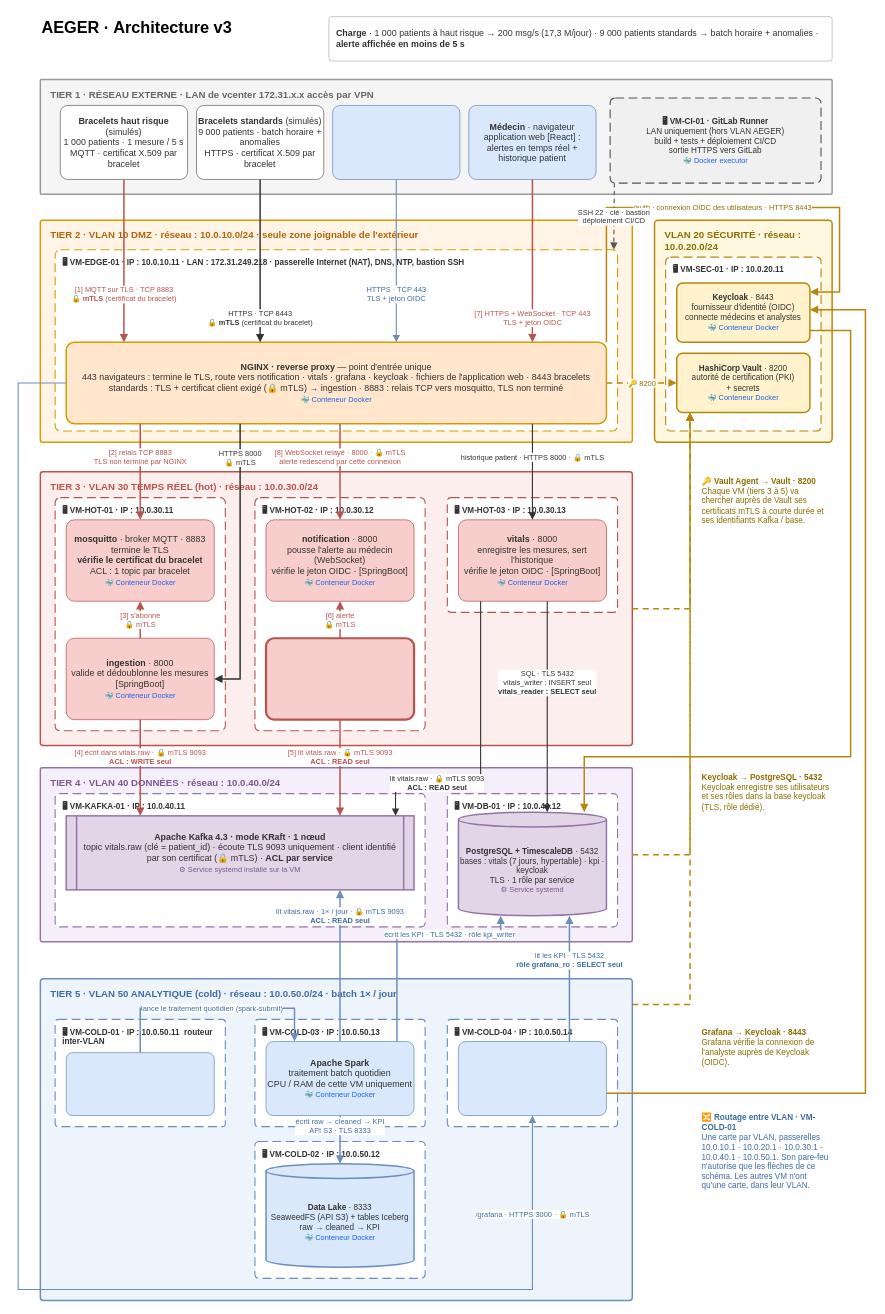
The diagram is 885 pixels wide and 1314 high, and some of its shapes have lost their labels. The centre of each missing label's shape, as x and y in pixels:
"alerting compare chaque mesure aux seuils [SpringBoot] 🐳 Conteneur Docker" goes at point (340, 678).
"Analyste · navigateur tableaux de bord KPI (Grafana)" goes at point (396, 142).
"Apache Airflow planifie le traitement quotidien 🐳 Conteneur Docker" goes at point (139, 1084).
"Grafana · 3000 tableaux de bord KPI connexion via Keycloak 🐳 Conteneur Docker" goes at point (532, 1078).
